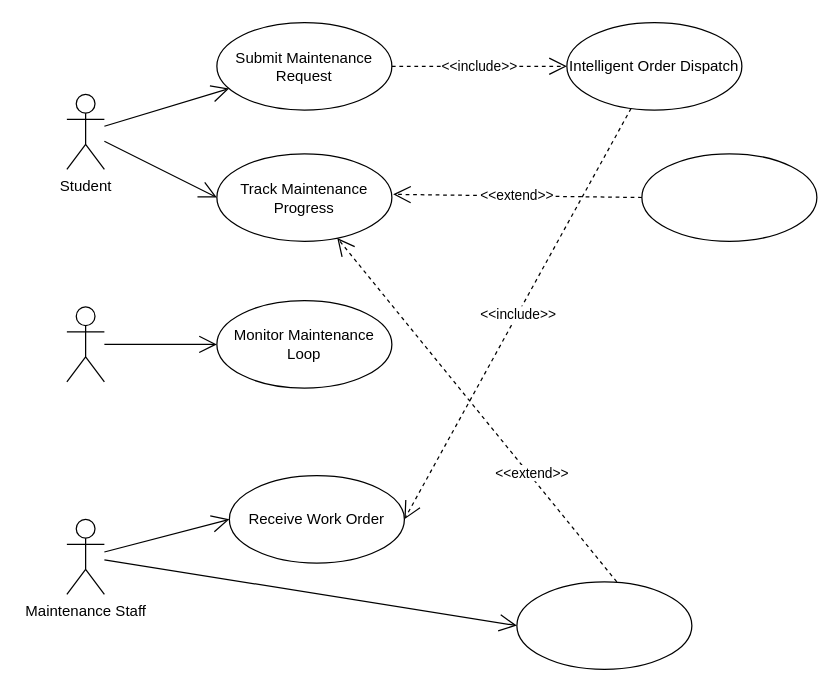
The diagram is 839 pixels wide and 691 high, and some of its shapes have lost their labels. Here are the shapes that lost their labels. From the top down, the box of each, then its label:
(641, 152, 817, 241): Rate Maintenance Service
(66, 306, 104, 382): Dorm Administrator
(516, 581, 692, 669): Update Maintenance Status
